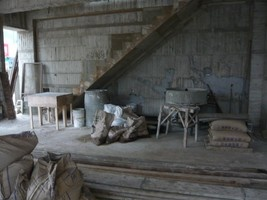bowl: (165, 87, 208, 107)
bucket: (84, 88, 109, 129), (72, 106, 85, 129)
